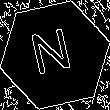N_S: (30, 26, 80, 84)
